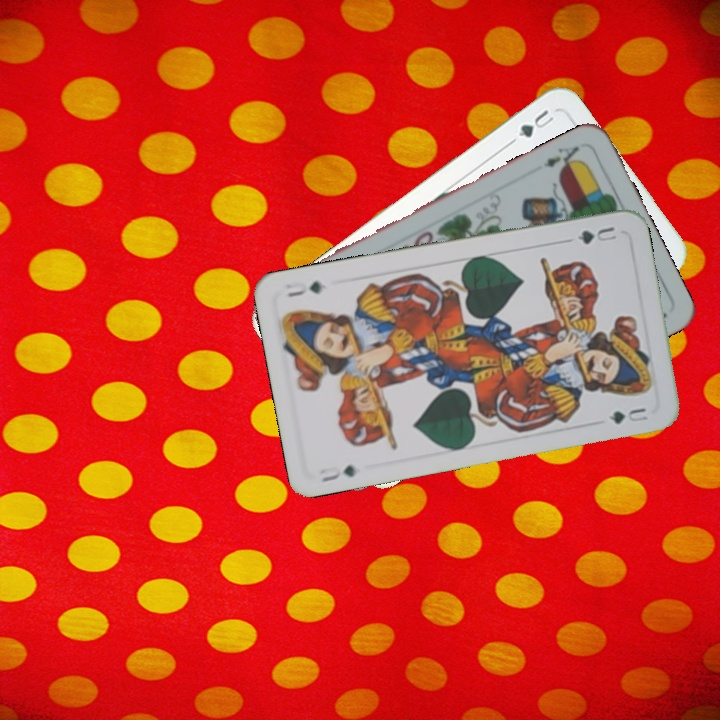EA: (539, 142, 582, 174)
GU: (514, 105, 557, 140), (573, 222, 619, 247), (315, 461, 359, 485)
